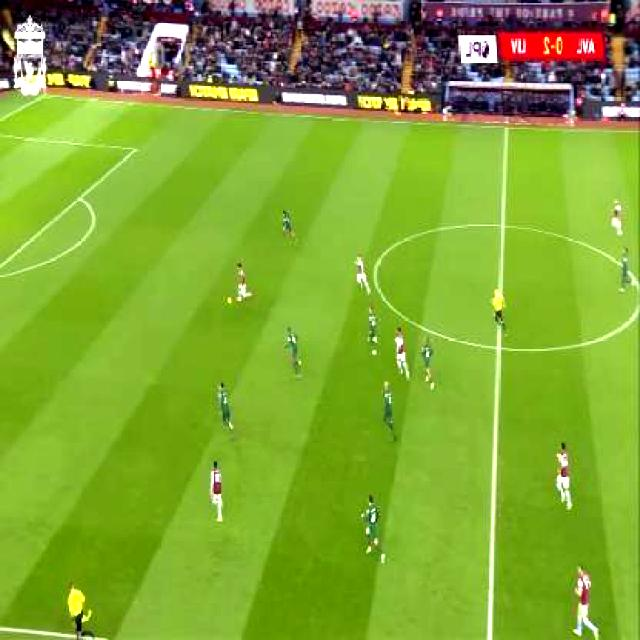bigarea_top_inner: (126, 140, 143, 160)
corner: (40, 89, 51, 102)
halfcircle_bottom: (486, 334, 509, 361)
halfcircle_top: (491, 215, 514, 240)
midline_top_intersection: (498, 120, 512, 138)
top_arc_area_intersection: (72, 186, 86, 211)
